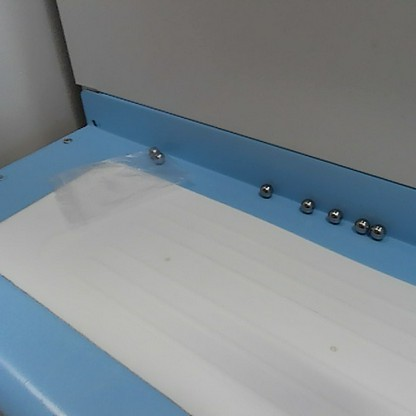ironball: (368, 222, 390, 243), (255, 180, 274, 200), (297, 196, 317, 215), (326, 205, 344, 226), (352, 215, 368, 235), (151, 152, 167, 165), (147, 145, 162, 156)
